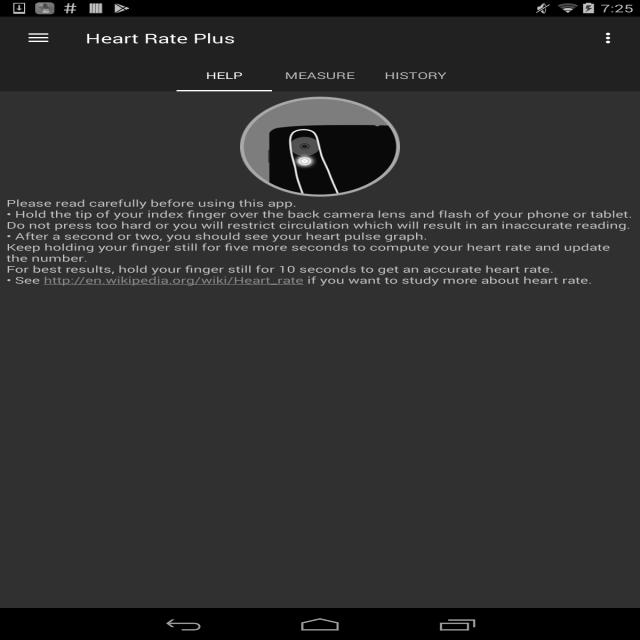ImageButton: (9, 17, 68, 59)
ImageView: (240, 96, 400, 196), (589, 22, 631, 54)
TextView: (0, 197, 640, 286), (86, 29, 236, 47), (284, 69, 354, 82), (384, 69, 446, 82), (206, 69, 243, 82)
